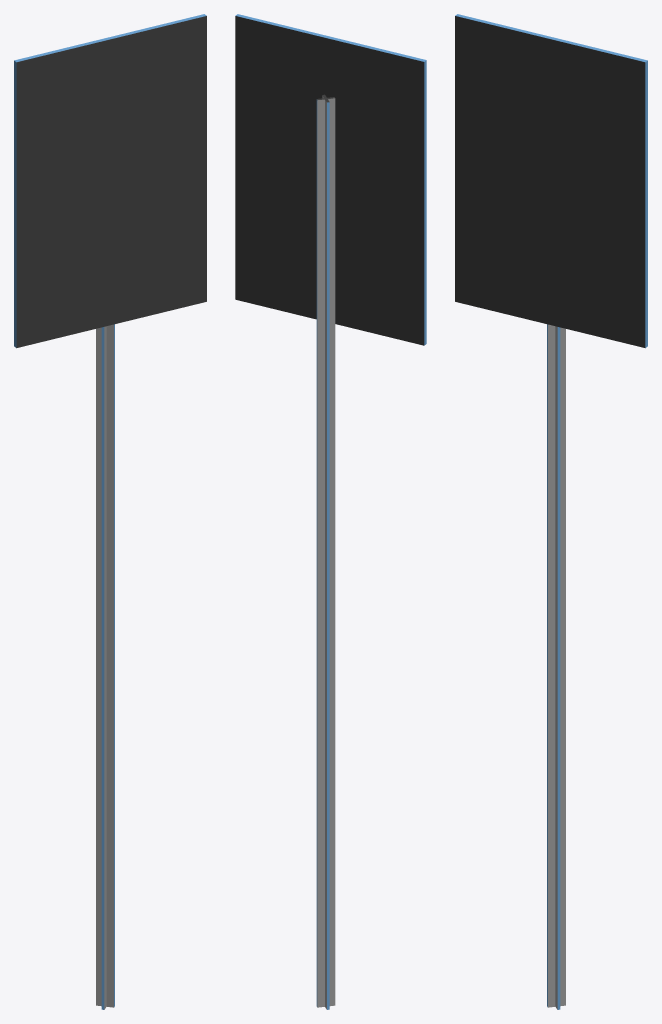
Rendered from Prop_SpeedSign_Unwrapped.fbx.
The picture shows the model from 3 angles, left to right: view 1: azimuth 30°, elevation 25°; view 2: azimuth 150°, elevation 25°; view 3: azimuth 330°, elevation 25°; orthographic projection.
Parts seen in each view (by area): view 1: Prop_SpeedSign_Unwrapped; view 2: Prop_SpeedSign_Unwrapped; view 3: Prop_SpeedSign_Unwrapped.
Boxes of the visible parts, x1,y1,x2,y2 form: Prop_SpeedSign_Unwrapped: [14, 14, 206, 1009]; Prop_SpeedSign_Unwrapped: [235, 14, 426, 1009]; Prop_SpeedSign_Unwrapped: [455, 14, 647, 1009].
Size of the model in its own units: 68.4 by 333 by 6.3.
